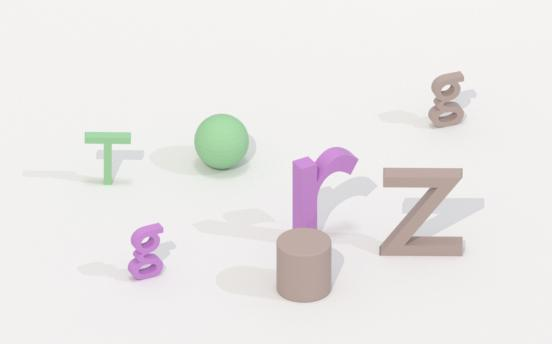R: (287, 148, 371, 234)
cau: (192, 111, 253, 172)
g: (125, 219, 169, 282), (426, 70, 469, 130)
t-hoa: (81, 127, 141, 187)
tru: (274, 227, 335, 307)
z: (374, 166, 471, 257)
